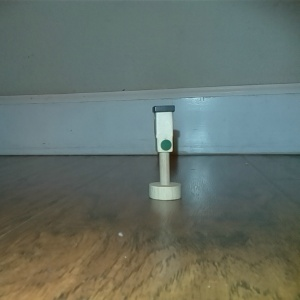traffic light green: (147, 103, 183, 200)
